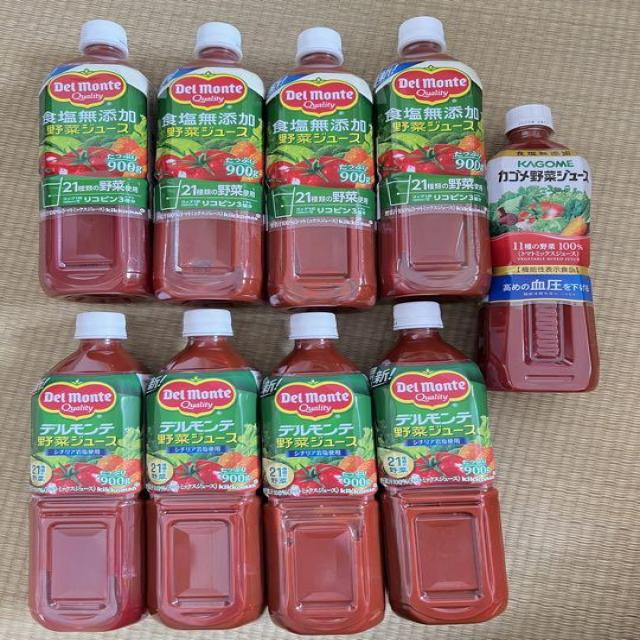juice: (367, 299, 511, 627), (257, 310, 388, 637), (139, 307, 267, 633), (26, 311, 149, 636), (479, 103, 602, 396), (373, 17, 493, 307), (147, 22, 268, 308), (37, 20, 158, 301), (262, 28, 379, 313)
